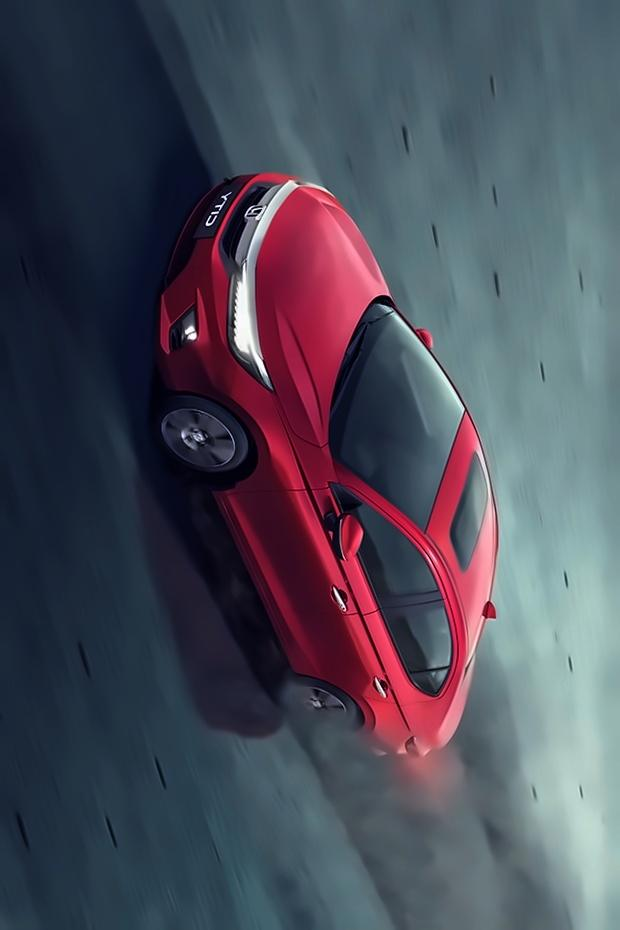Car hood: (246, 179, 387, 451)
Fender - -F-L-: (157, 379, 364, 501)
Fender - -R-L-: (283, 642, 470, 751)
Front bumper: (143, 153, 314, 428)
Headlight - -L-: (226, 256, 267, 392)
Passenger-s door - -F-L-: (179, 459, 477, 618)
Passenger-s door - -R-L-: (227, 564, 498, 684)
Side bumper - -L-: (206, 492, 311, 682)
Side mirror - -L-: (322, 507, 363, 571)
